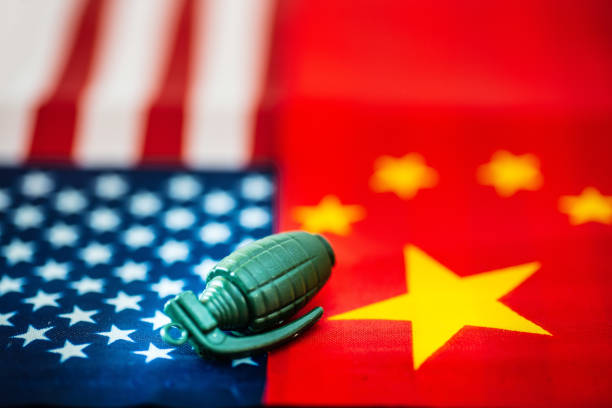e1: (163, 232, 337, 345)
